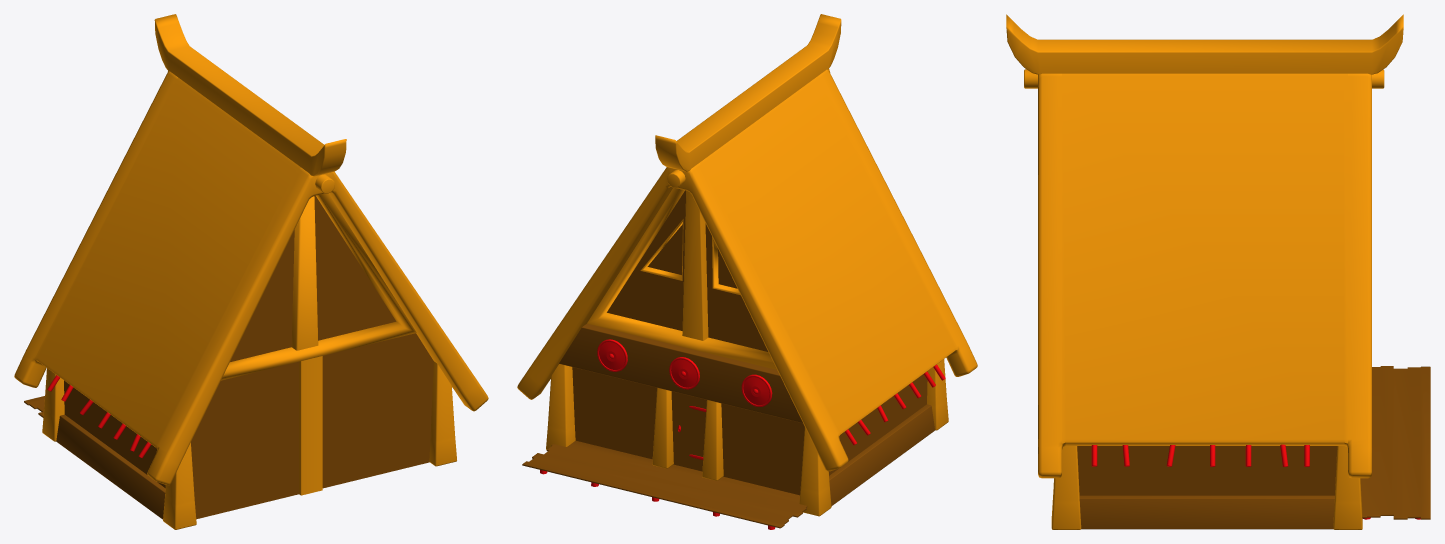
File: VikingHouse.fbx
3 views of the same model, side by side, from view 1: azimuth 30°, elevation 25°; view 2: azimuth 150°, elevation 25°; view 3: azimuth 270°, elevation 25° (orthographic). The views are drawn at different scales.
Visible parts, largest first — view 1: Miscelaneous; view 2: Miscelaneous; view 3: Miscelaneous.
Part boxes in pixels (x1,y1,x2,y2): Miscelaneous: [14, 14, 488, 529]; Miscelaneous: [517, 14, 977, 529]; Miscelaneous: [1006, 14, 1430, 529].
Bounding box in the file's own units: 930 × 984 × 879.
